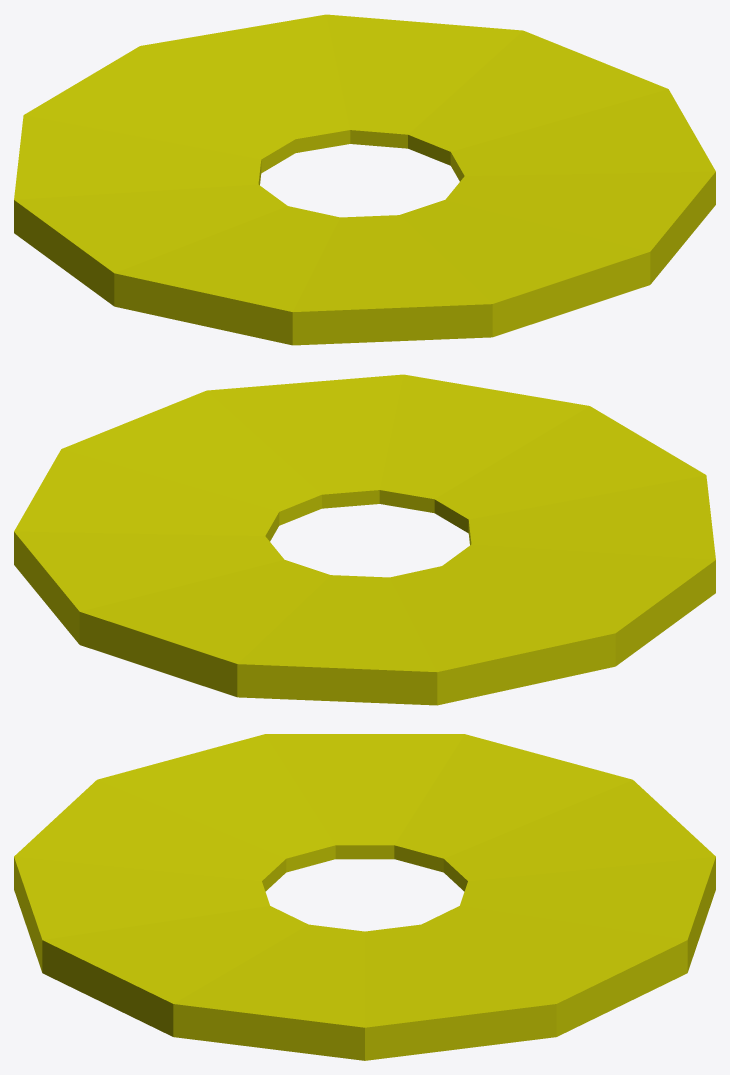
File: Pineapple.fbx
The picture shows the model from 3 angles, top to bottom: view 1: azimuth 30°, elevation 25°; view 2: azimuth 150°, elevation 25°; view 3: azimuth 270°, elevation 25°; orthographic projection.
Visible parts, largest first — view 1: Icosphere.000; view 2: Icosphere.000; view 3: Icosphere.000.
Boxes of the visible parts, box(x1,y1,x2,y2) form: Icosphere.000: box(14, 14, 715, 345); Icosphere.000: box(14, 374, 715, 705); Icosphere.000: box(14, 734, 715, 1060).
Size of the model in its own units: 68.13 by 3.59 by 68.83.
